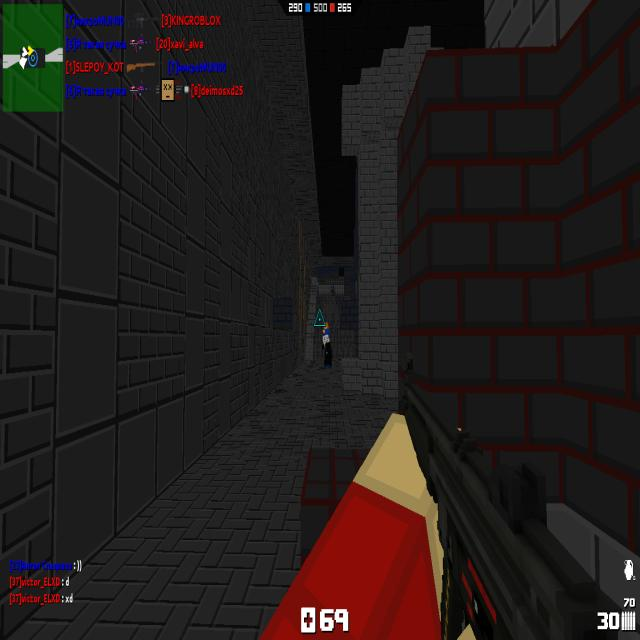enemy: (322, 332, 332, 370), (322, 320, 331, 340), (330, 284, 336, 297)
